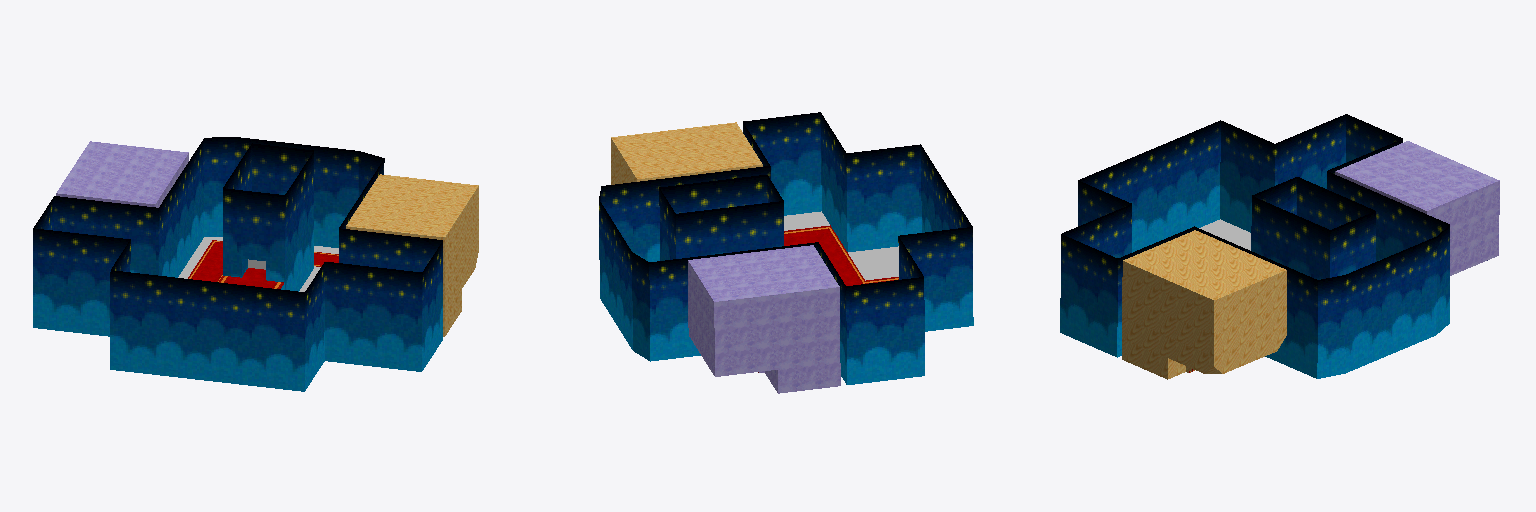
3 views of the same model, side by side, from view 1: azimuth 30°, elevation 25°; view 2: azimuth 150°, elevation 25°; view 3: azimuth 270°, elevation 25° (orthographic).
Parts seen in each view (by area): view 1: 012_2FFC08F5_c.bmp, 013_66E6C696_c.bmp, 015_3342EBC1_c.bmp, 014_46B89AC1_c.bmp, 010_3AE92A9C_c.bmp; view 2: 012_2FFC08F5_c.bmp, 015_3342EBC1_c.bmp, 013_66E6C696_c.bmp, 010_3AE92A9C_c.bmp, 014_46B89AC1_c.bmp; view 3: 012_2FFC08F5_c.bmp, 013_66E6C696_c.bmp, 015_3342EBC1_c.bmp, 010_3AE92A9C_c.bmp.
Boxes of the visible parts, x1=… form: 012_2FFC08F5_c.bmp: x1=33, y1=137, x2=442, y2=391; 013_66E6C696_c.bmp: x1=346, y1=174, x2=478, y2=336; 015_3342EBC1_c.bmp: x1=56, y1=141, x2=188, y2=207; 014_46B89AC1_c.bmp: x1=188, y1=240, x2=338, y2=288; 010_3AE92A9C_c.bmp: x1=178, y1=237, x2=338, y2=291; 012_2FFC08F5_c.bmp: x1=599, y1=112, x2=973, y2=384; 015_3342EBC1_c.bmp: x1=688, y1=245, x2=840, y2=393; 013_66E6C696_c.bmp: x1=611, y1=122, x2=762, y2=184; 010_3AE92A9C_c.bmp: x1=784, y1=211, x2=898, y2=280; 014_46B89AC1_c.bmp: x1=758, y1=225, x2=898, y2=372; 012_2FFC08F5_c.bmp: x1=1060, y1=114, x2=1449, y2=378; 013_66E6C696_c.bmp: x1=1122, y1=230, x2=1286, y2=379; 015_3342EBC1_c.bmp: x1=1335, y1=141, x2=1499, y2=275; 010_3AE92A9C_c.bmp: x1=1199, y1=219, x2=1250, y2=250.
Size of the model in its own units: 5.2 by 1.77 by 5.21.
Materials: 9 (6 with a texture image).